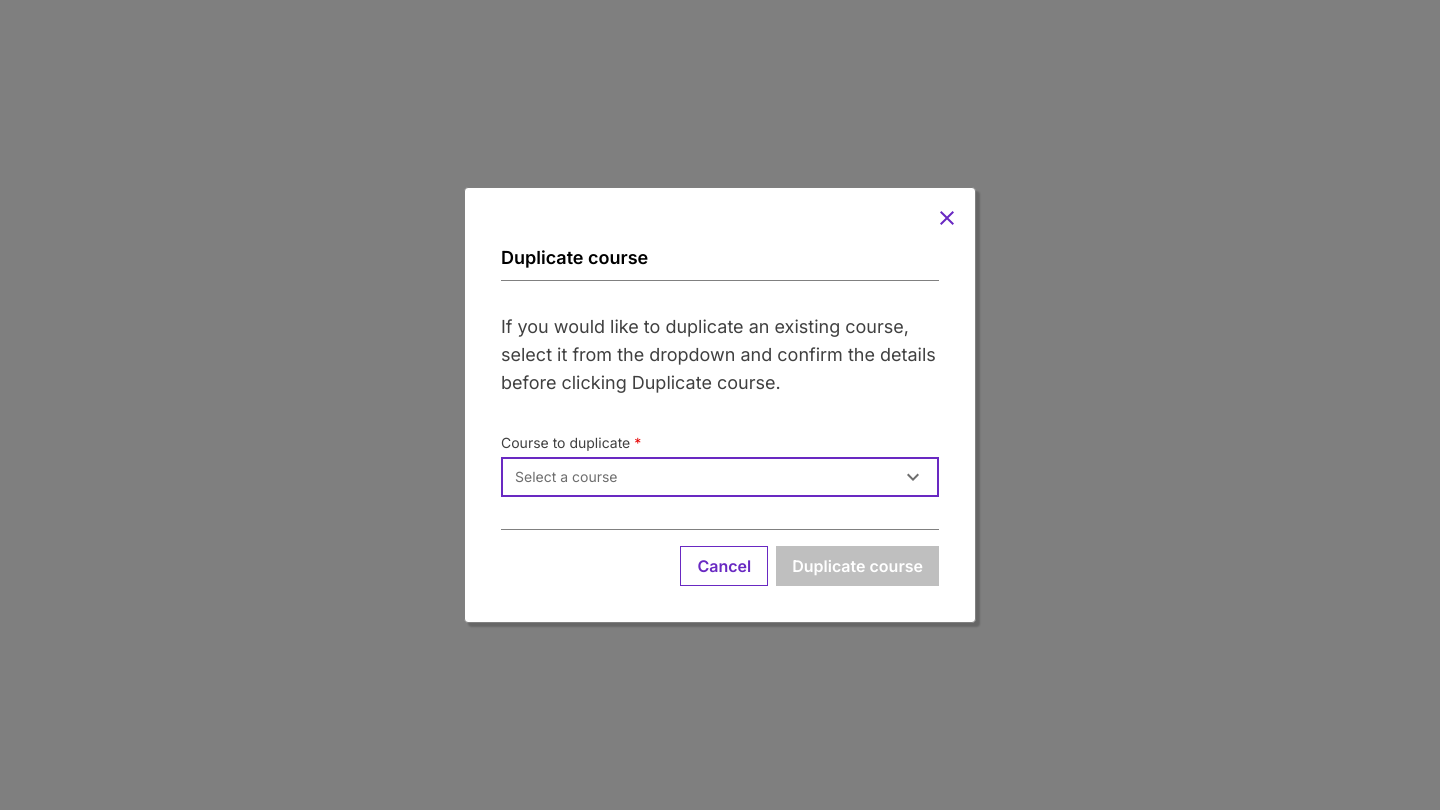
Test case: DuplicateCourse › disables Duplicate until a source course is selected
The image size is (1440, 810).
expect the button "Duplicate course" is disabled: met, box [776, 546, 939, 586]
Click the dropdown named "Course to duplicate": x=566, y=476 [501, 457, 939, 497]
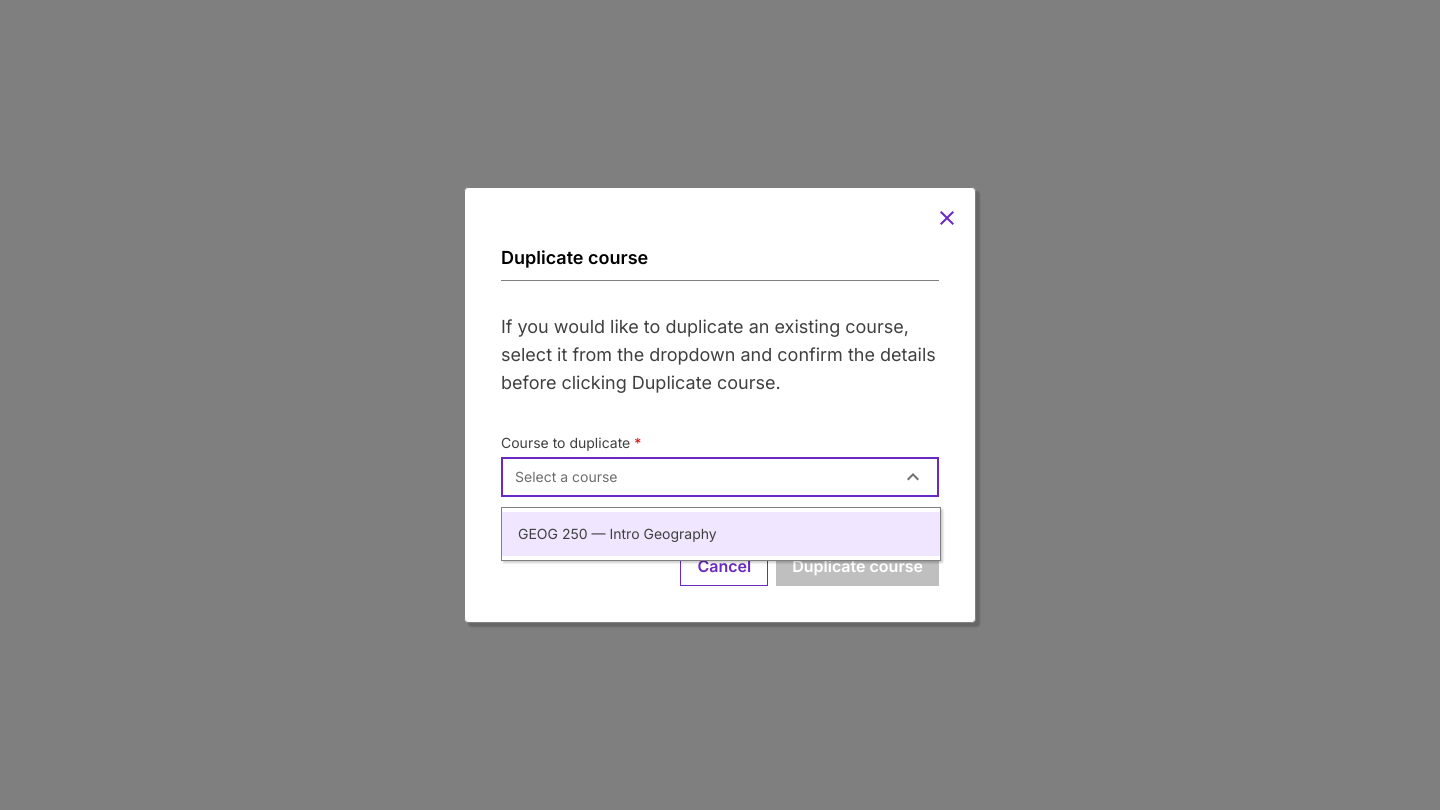
Click the option "GEOG 250 — Intro Geography": x=617, y=534 [502, 512, 940, 556]
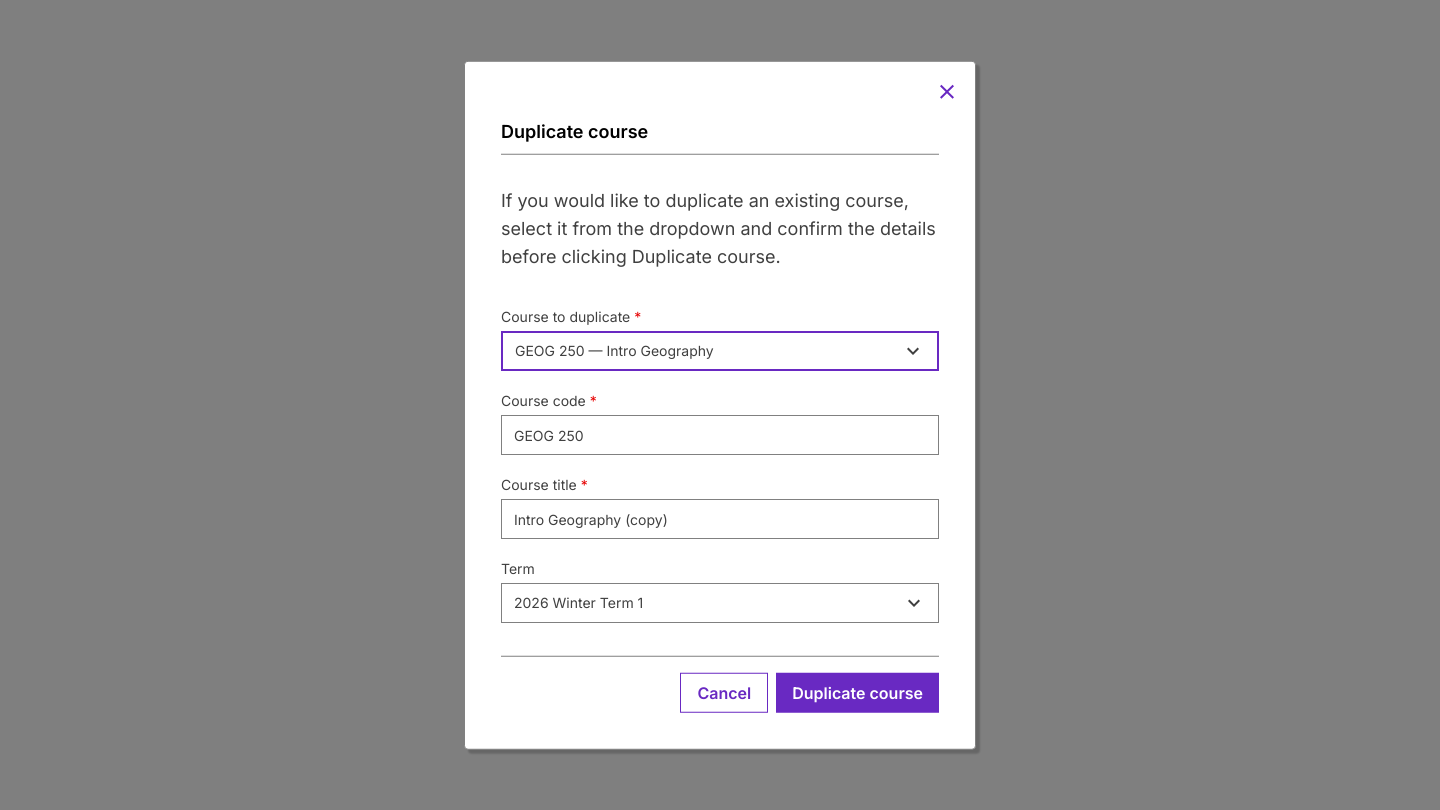
expect the button "Duplicate course" is enabled: met, box [776, 672, 939, 712]
